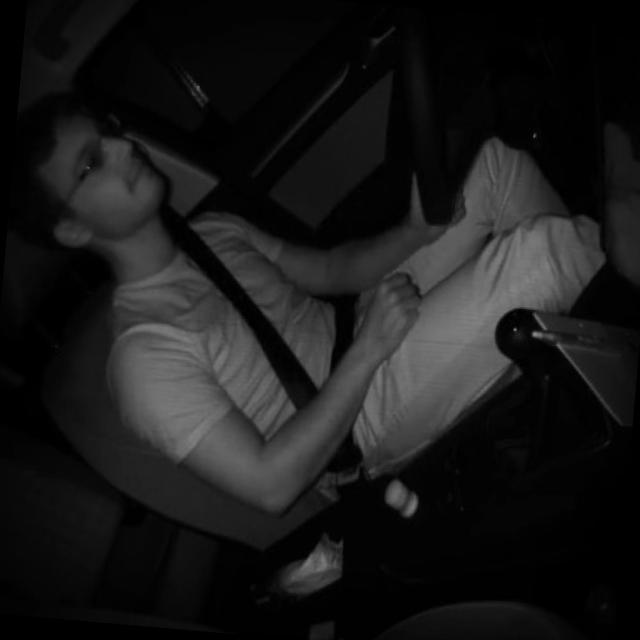pen: (532, 330, 640, 349)
